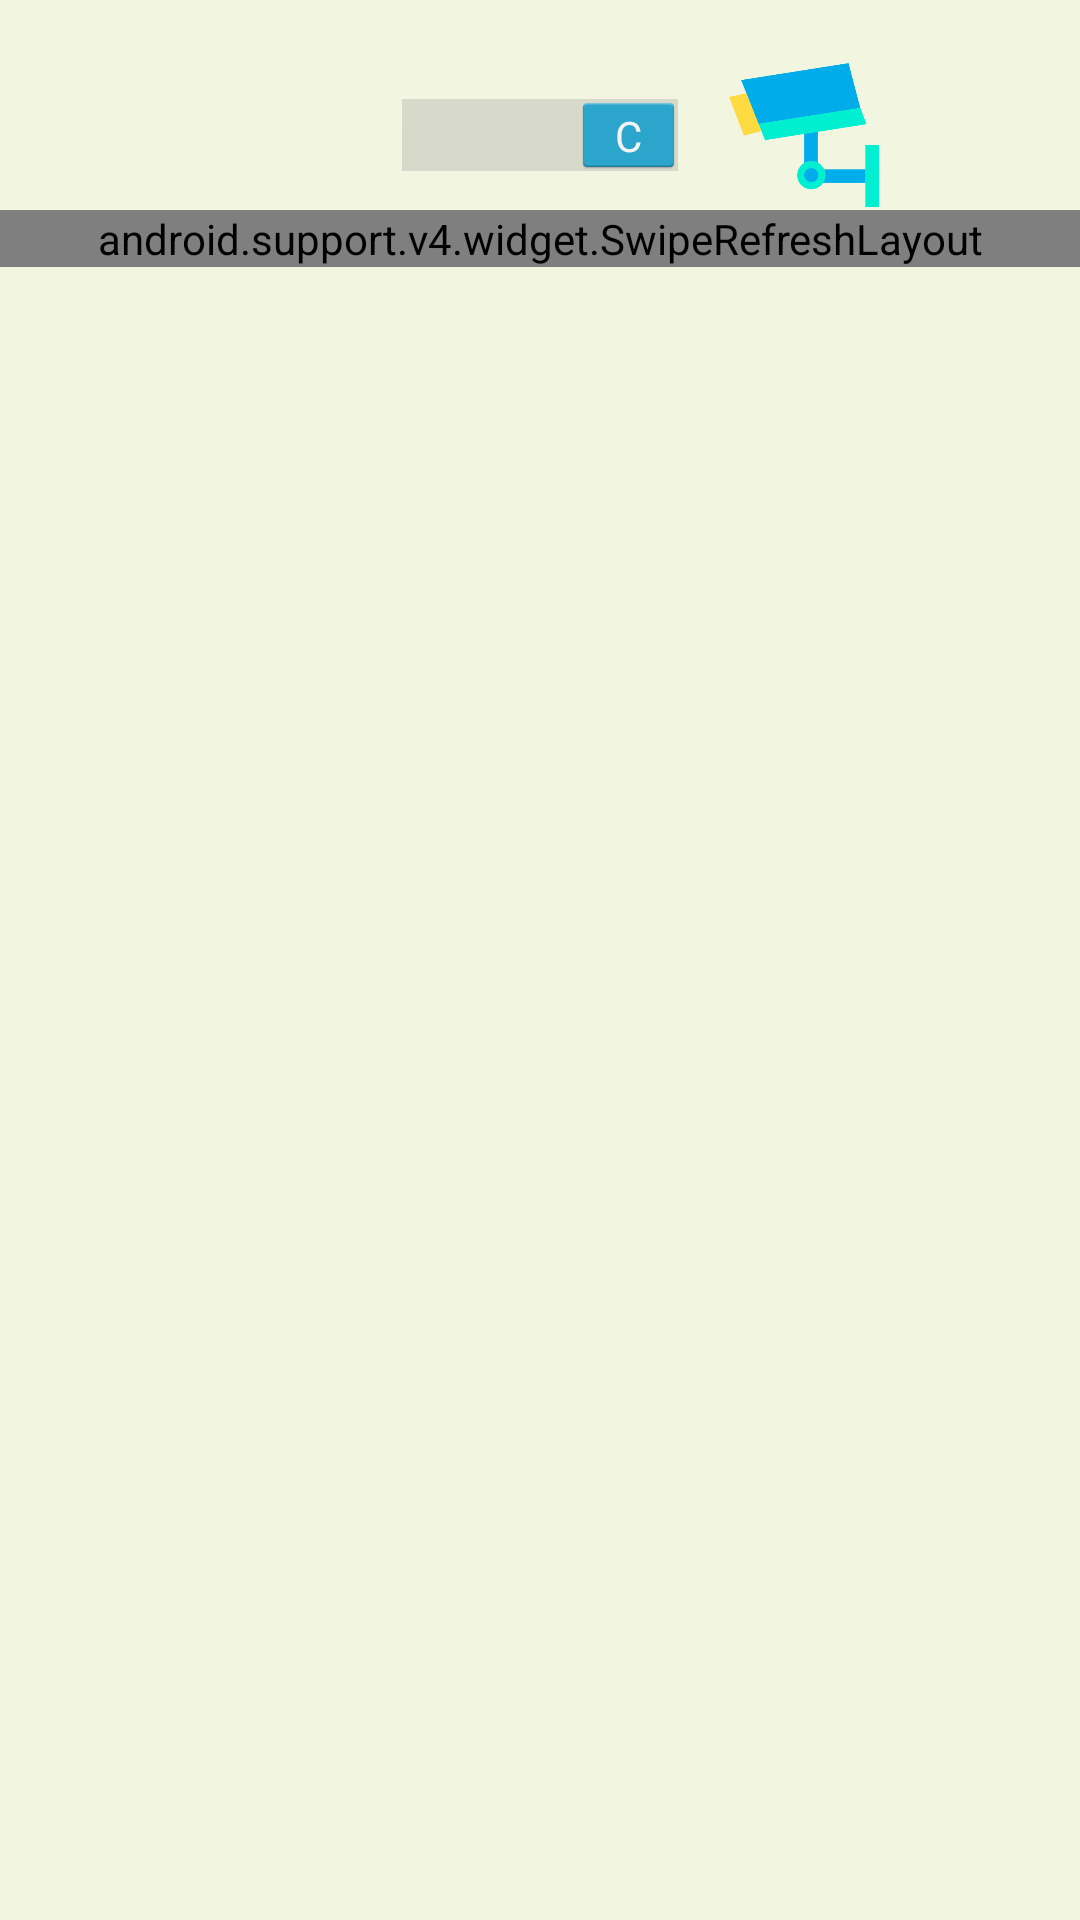

Named icons in this screenshot (1080*1920) and their bounding boxes, [left=x1, top=y1, right=x2, bottom=y2]:
cameracartoon: [left=729, top=63, right=879, bottom=207]
